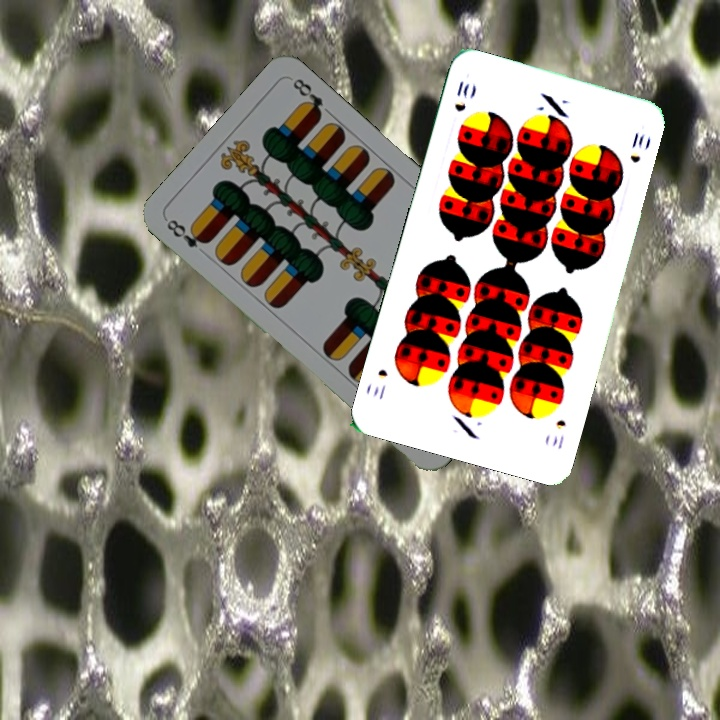E8: (162, 215, 212, 250)
S10: (450, 76, 472, 115), (548, 415, 569, 452)
